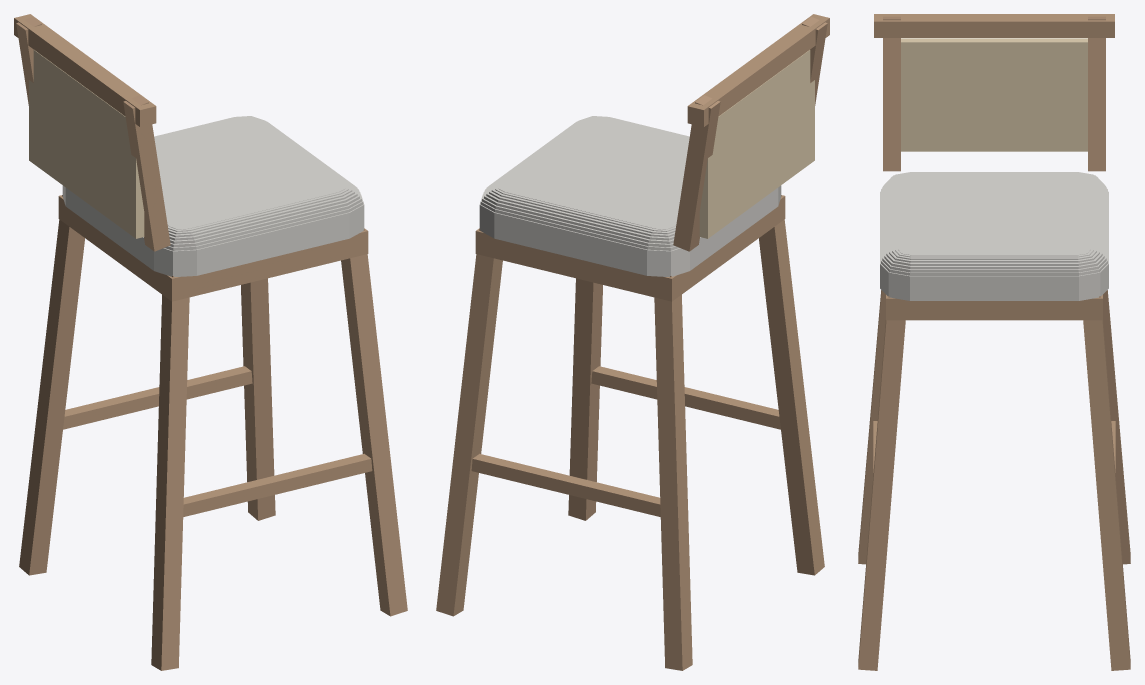
The model's file is SM_BarStool_Cane.fbx.
3 views of the same model, side by side, from view 1: azimuth 30°, elevation 25°; view 2: azimuth 150°, elevation 25°; view 3: azimuth 270°, elevation 25° (orthographic). The views are drawn at different scales.
Parts seen in each view (by area): view 1: SM_BarStool_Cane; view 2: SM_BarStool_Cane; view 3: SM_BarStool_Cane.
Boxes of the visible parts, x1=… form: SM_BarStool_Cane: x1=14, y1=14, x2=407, y2=670; SM_BarStool_Cane: x1=436, y1=14, x2=829, y2=670; SM_BarStool_Cane: x1=858, y1=14, x2=1130, y2=670.
Size of the model in its own units: 48.08 by 98.47 by 45.21.
